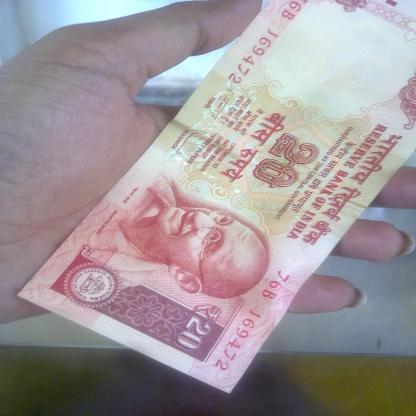Old20Front: (17, 0, 416, 395)
